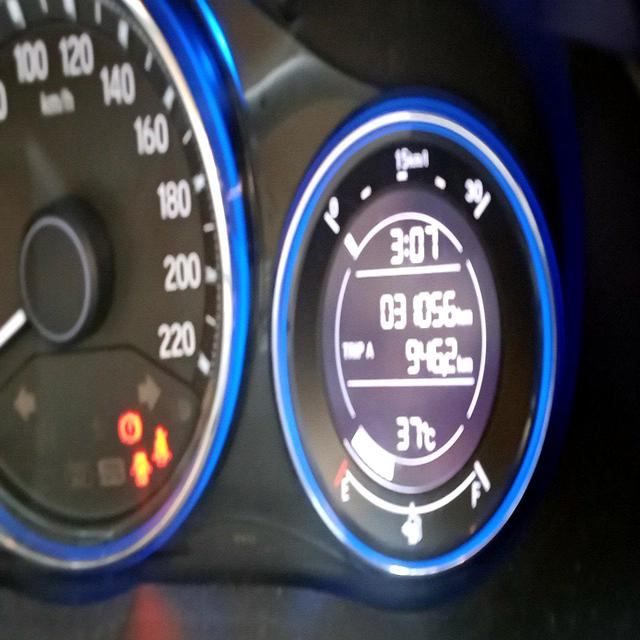odometer: (374, 284, 461, 340)
